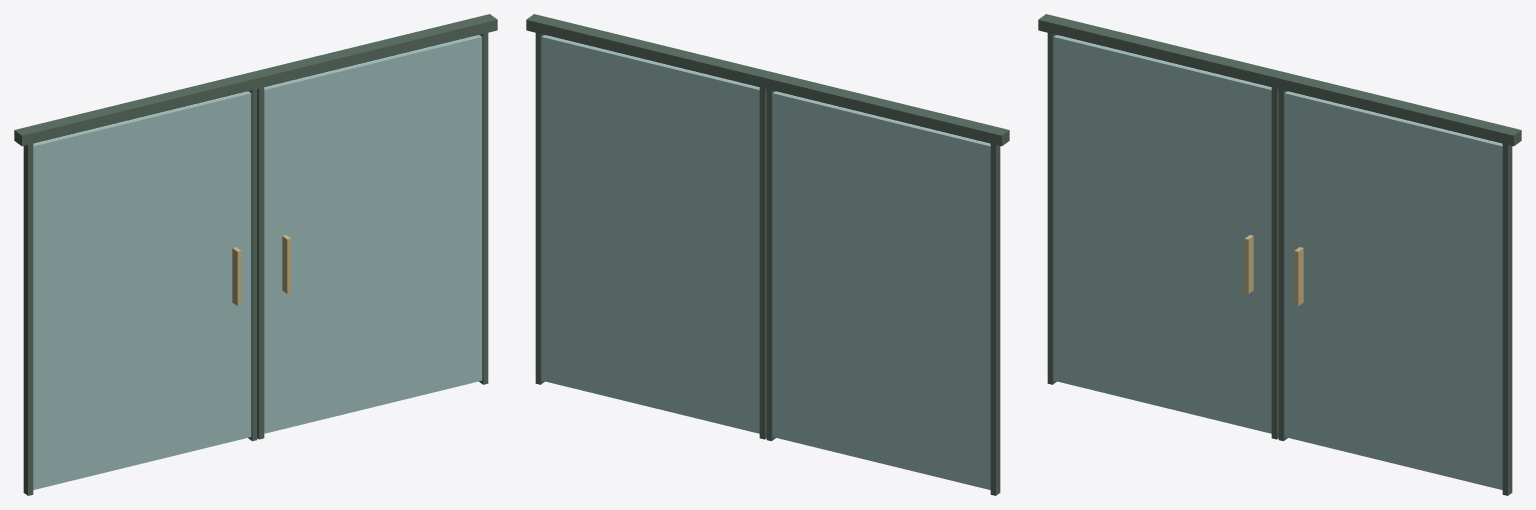
Rendered from entrance.glb.
The picture shows the model from 3 angles, left to right: view 1: azimuth 30°, elevation 25°; view 2: azimuth 150°, elevation 25°; view 3: azimuth 330°, elevation 25°; orthographic projection.
Parts seen in each view (by area): view 1: Door glazing, Door glazing.001, Entrance lintel, Door stile, Door stile.002, Door stile.001, Door stile.003, Door handle, Door handle.001; view 2: Door glazing, Door glazing.001, Entrance lintel, Door stile, Door stile.002, Door stile.001, Door stile.003; view 3: Door glazing, Door glazing.001, Entrance lintel, Door stile.003, Door stile.001, Door stile.002, Door stile, Door handle.001, Door handle.
Boxes of the visible parts, box(x1,y1,x2,y2) form: Door glazing: box(33, 91, 251, 489); Door glazing.001: box(264, 35, 482, 433); Entrance lintel: box(14, 14, 497, 146); Door stile: box(23, 144, 33, 495); Door stile.002: box(257, 87, 264, 439); Door stile.001: box(248, 89, 257, 441); Door stile.003: box(479, 33, 488, 384); Door handle: box(232, 247, 241, 306); Door handle.001: box(282, 235, 291, 293); Door glazing: box(772, 91, 990, 489); Door glazing.001: box(541, 35, 759, 433); Entrance lintel: box(526, 14, 1009, 146); Door stile: box(990, 144, 1000, 495); Door stile.002: box(759, 87, 766, 439); Door stile.001: box(766, 89, 775, 441); Door stile.003: box(535, 33, 544, 384); Door glazing: box(1053, 35, 1271, 433); Door glazing.001: box(1284, 91, 1502, 489); Entrance lintel: box(1038, 14, 1521, 146); Door stile.003: box(1502, 144, 1512, 495); Door stile.001: box(1271, 87, 1278, 439); Door stile.002: box(1278, 89, 1287, 441); Door stile: box(1047, 33, 1056, 384); Door handle.001: box(1294, 247, 1303, 306); Door handle: box(1244, 235, 1253, 293).
Size of the model in its own units: 4.2 by 3.06 by 0.19.
